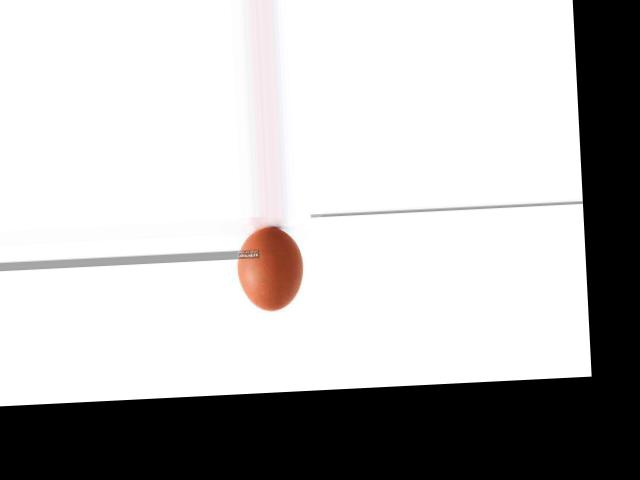egg: (235, 227, 304, 312)
